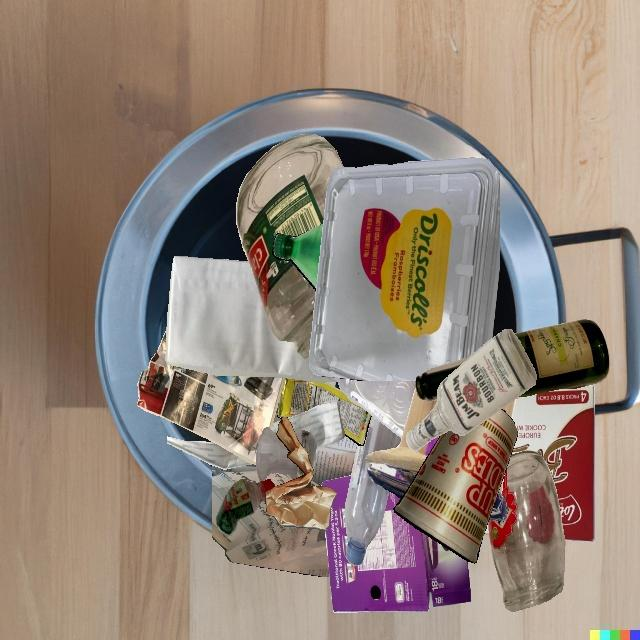cardboard: (322, 475, 471, 612), (511, 384, 594, 541), (407, 411, 504, 519), (365, 387, 440, 475)
glass: (236, 134, 343, 359), (406, 329, 537, 451), (488, 450, 565, 612), (514, 319, 609, 397), (256, 427, 305, 480), (294, 430, 316, 469), (273, 398, 282, 423)
paper: (165, 256, 338, 382), (137, 330, 285, 464), (212, 464, 330, 577), (265, 417, 337, 531), (212, 424, 297, 475), (167, 437, 253, 469), (287, 401, 344, 449)
plastic: (309, 157, 500, 381), (345, 415, 401, 566), (337, 377, 415, 438), (272, 223, 323, 291), (215, 479, 275, 536)
trash: (394, 409, 518, 563), (277, 377, 372, 446)
